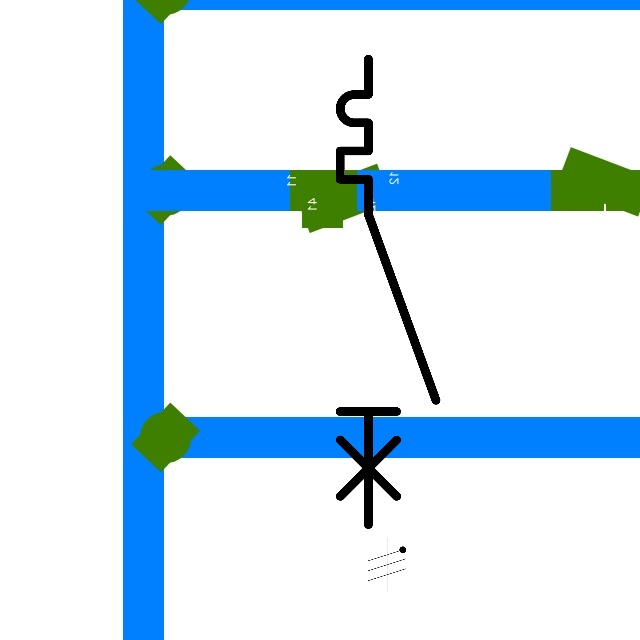interruptor_termomagnetico: (328, 47, 448, 537)
